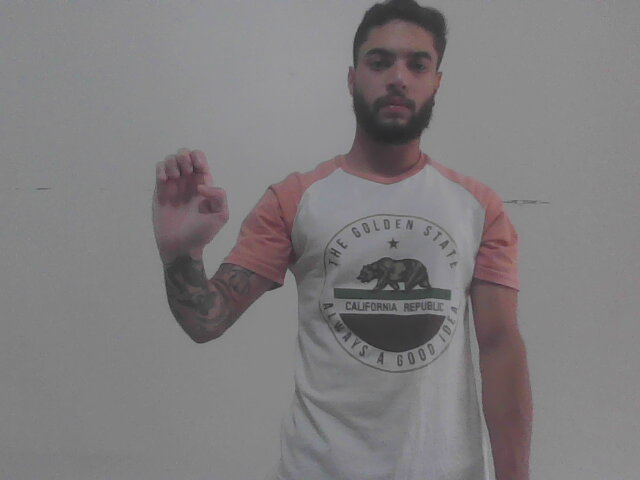e: (140, 143, 232, 255)
